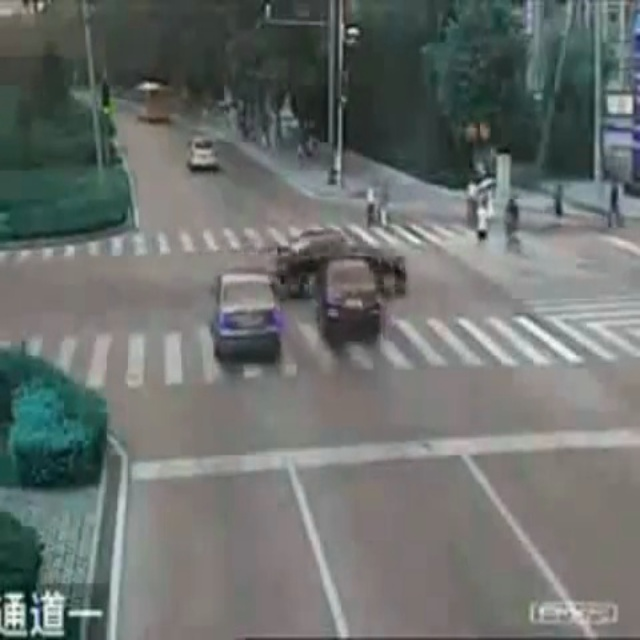acc: (276, 231, 410, 340)
